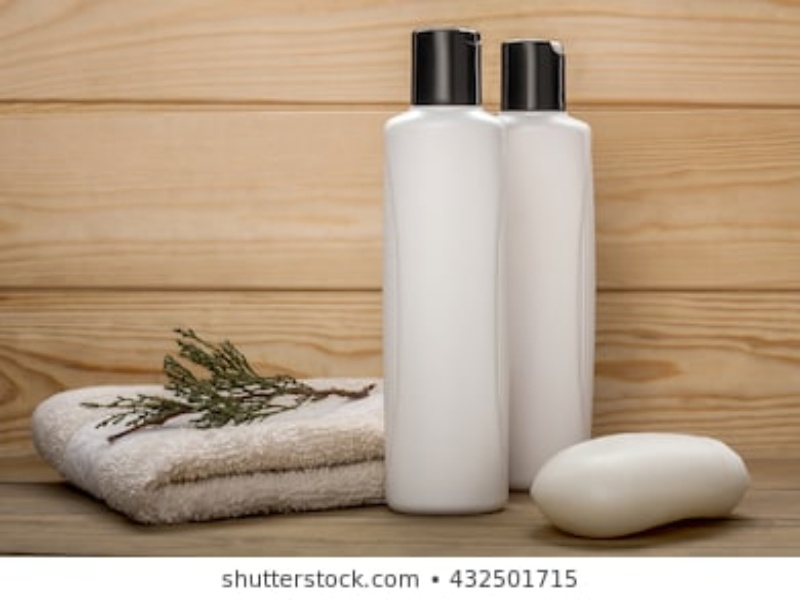shampoo-bottle: (378, 22, 513, 519), (494, 35, 612, 495)
